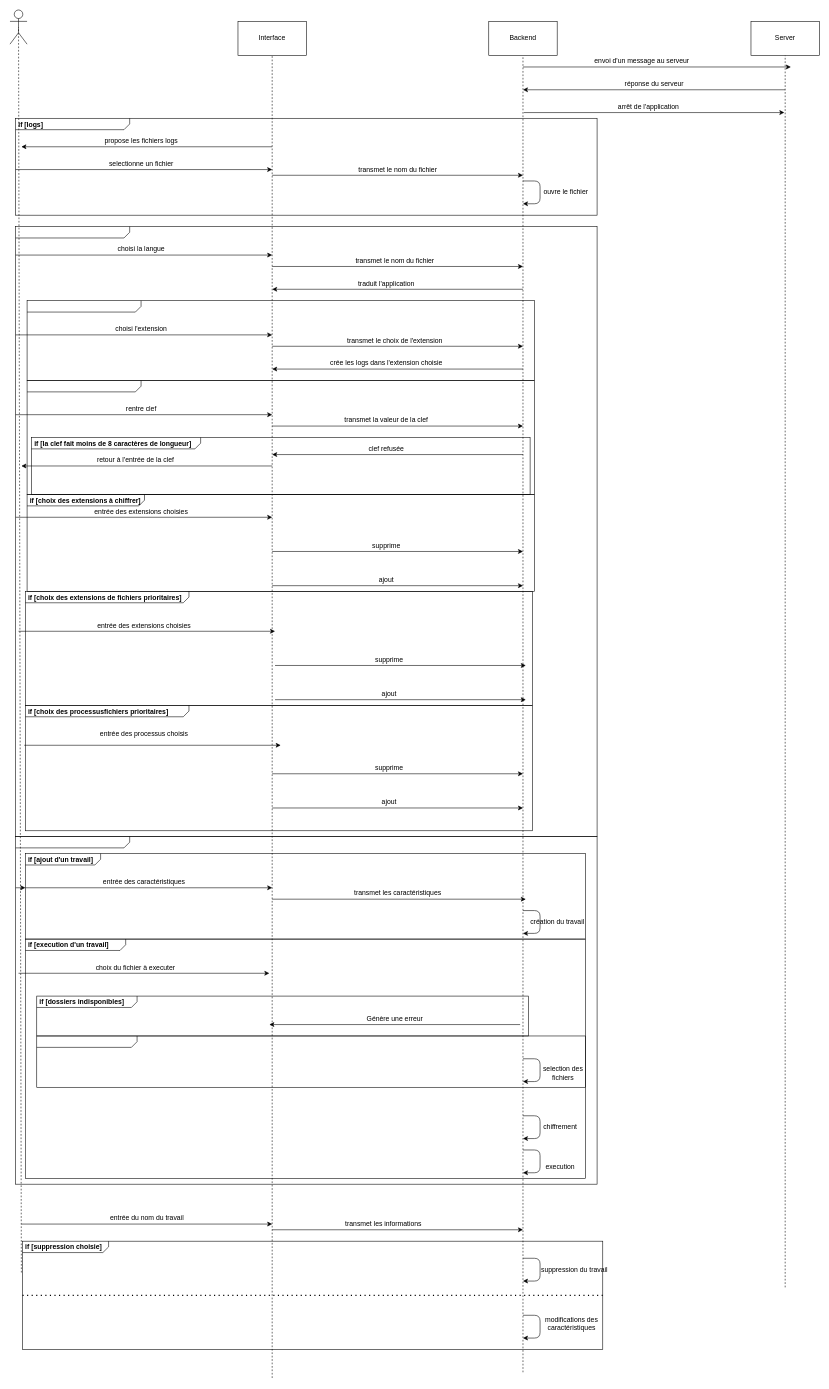
The diagram is 829 pixels wide and 1389 high, and some of its shapes have lost their labels. Here are the shapes that lost their labels. From the top down, the box of each, then its label:
(9, 9, 27, 44): Actor
(27, 300, 534, 380): if [choix de l'extension]
(27, 380, 534, 494): if [choix de la clef chiffrée]
(15, 226, 597, 836): if [paramètres]
(15, 836, 597, 1184): if [travaux de sauvegarde]
(36, 1035, 586, 1087): if [sauvegarde différentielle]
